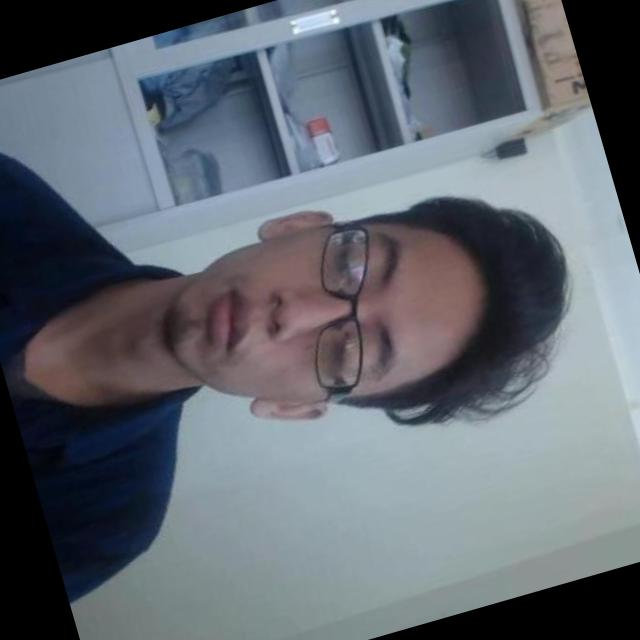bareface: (134, 149, 552, 467)
